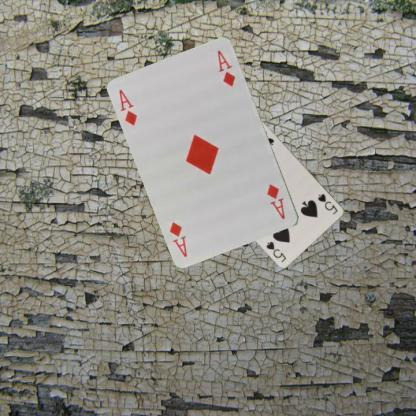5s: (316, 191, 340, 216)
Ad: (116, 86, 139, 127), (264, 181, 287, 221)
